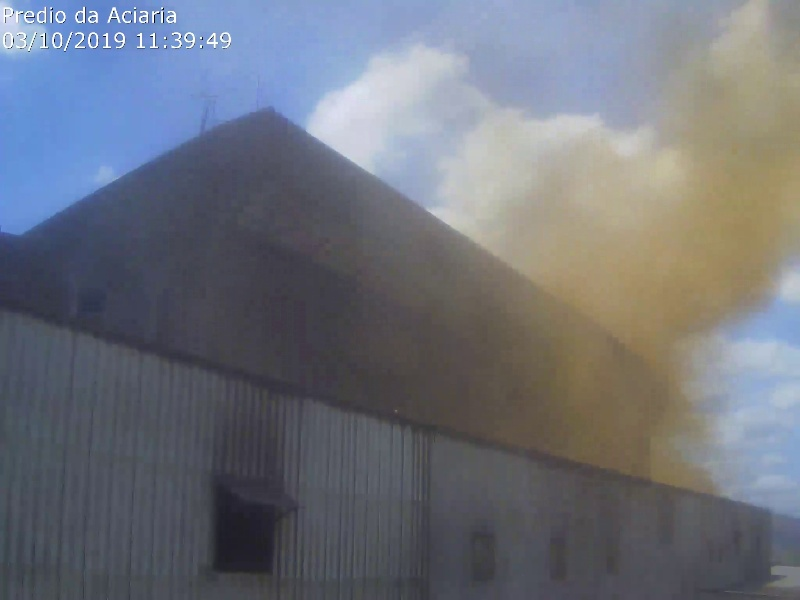bom: (4, 7, 310, 207)
pessimo: (467, 82, 753, 495), (509, 12, 800, 312)
